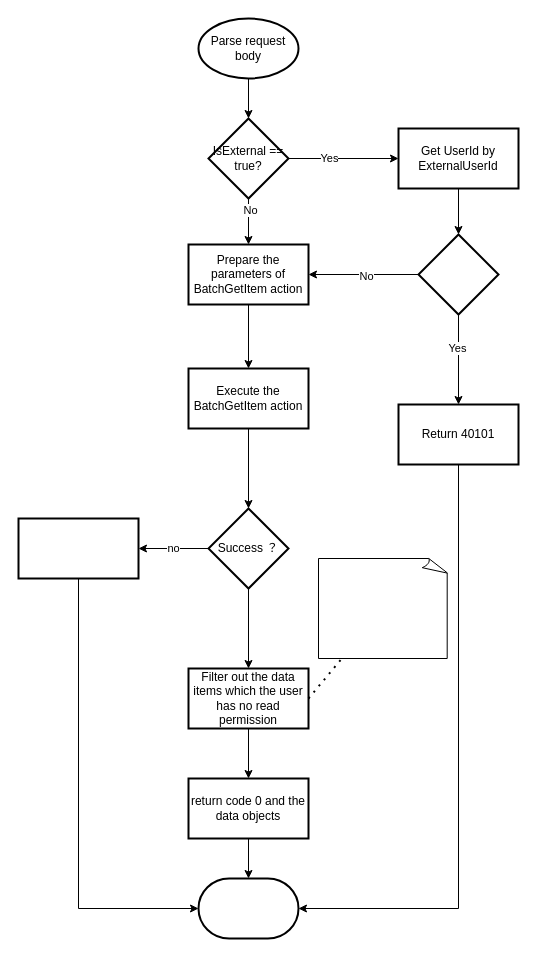
This 536x956 diagram has some shape labels left out. The box of each missing label's shape, as (x1, y1, x2, y2) in pixels:
End: (197, 877, 299, 939)
If UserId = LoginUserId then ReadPermission = 1 else ReadPermission = 2: (318, 558, 448, 658)
return code 40100: (17, 517, 139, 579)
UserId is null: (417, 233, 499, 315)
